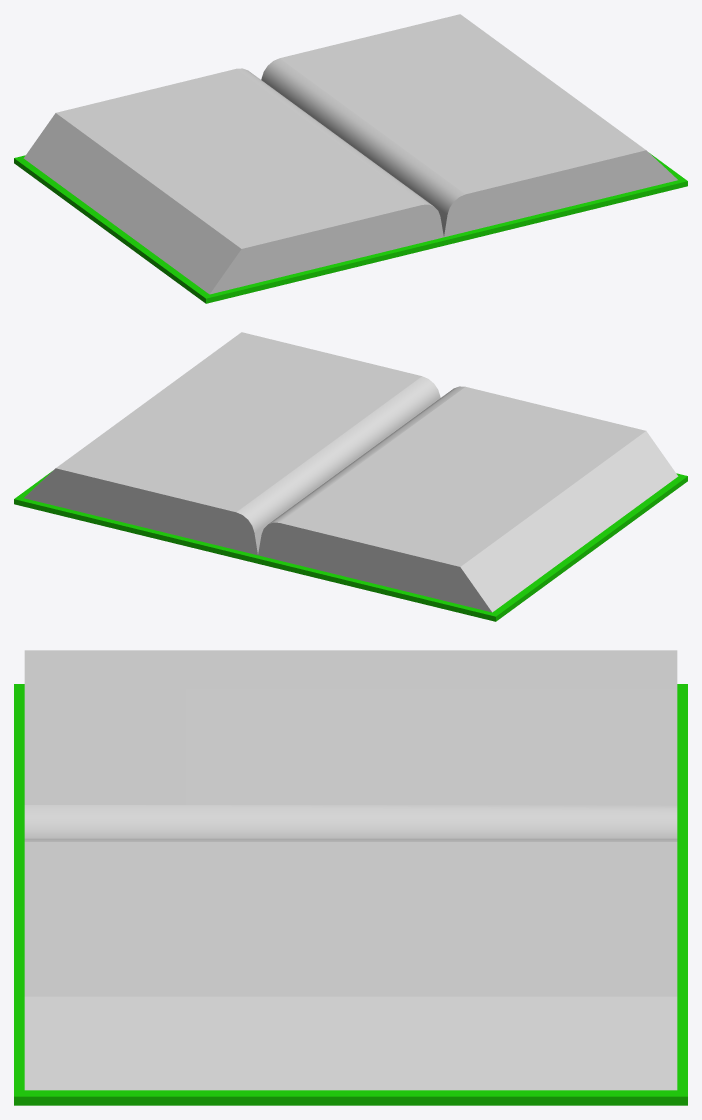
Rendered from Book_Open_Green.fbx.
3 renders of one model, top to bottom at view 1: azimuth 30°, elevation 25°; view 2: azimuth 150°, elevation 25°; view 3: azimuth 270°, elevation 25°, orthographic. The views are drawn at different scales.
Visible parts, largest first — view 1: Book_Open_Green; view 2: Book_Open_Green; view 3: Book_Open_Green.
Boxes of the visible parts, box(x1,y1,x2,y2) form: Book_Open_Green: box(14, 14, 687, 303); Book_Open_Green: box(14, 332, 687, 621); Book_Open_Green: box(14, 650, 687, 1105).
Bounding box in the file's own units: 39.42 × 3.38 × 27.21.
